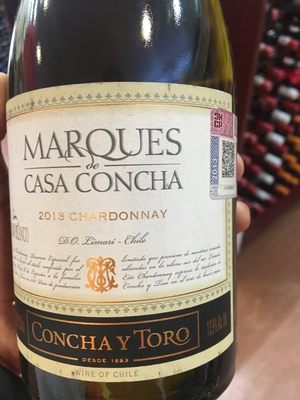marques de casa concha chardonnay: (8, 16, 267, 400)
